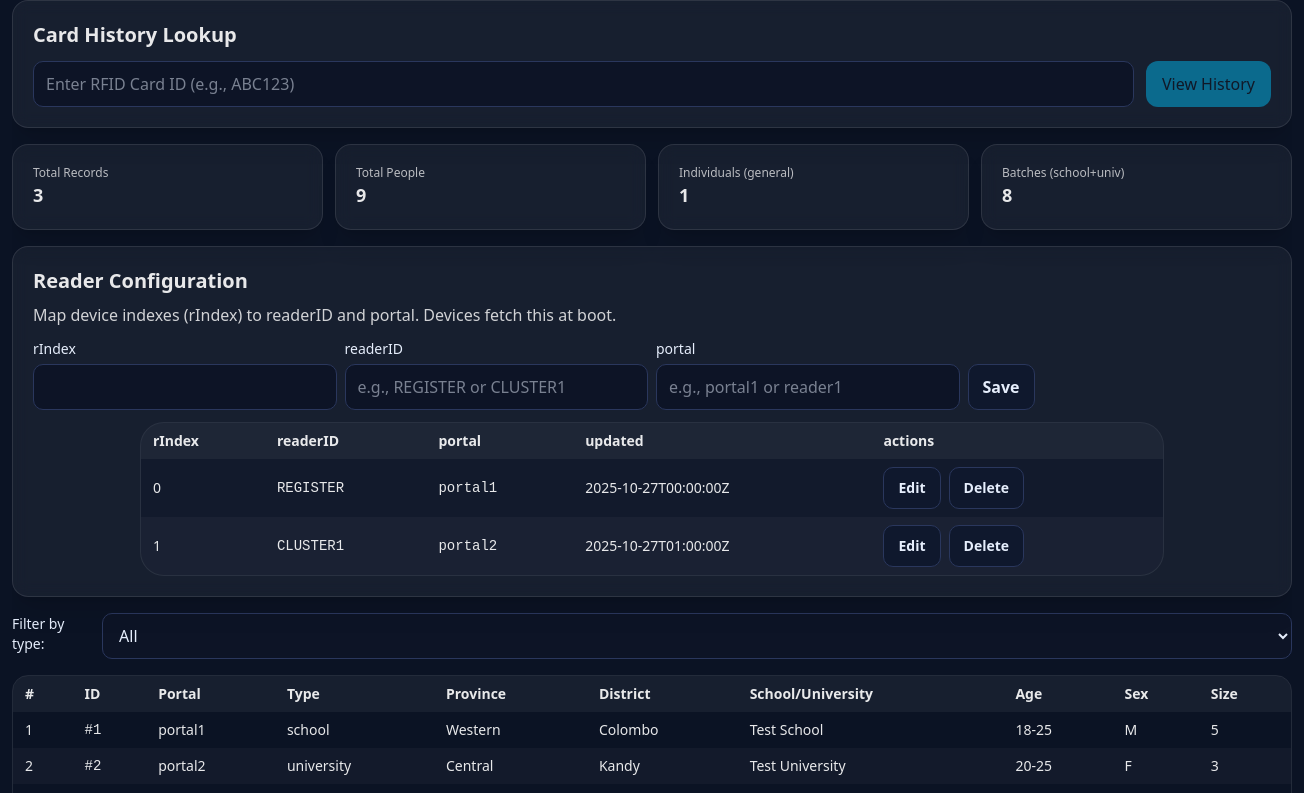
Test: AdminPortal › Reader Configuration Management › should handle edit reader configuration
The image size is (1304, 793).
Expected: the heading "Reader Configuration" is shown, x1=33 y1=267 x2=248 y2=294
Step 1. Click the button "Edit" in the row of "REGISTER" → (912, 488), box x1=884 y1=467 x2=941 y2=509
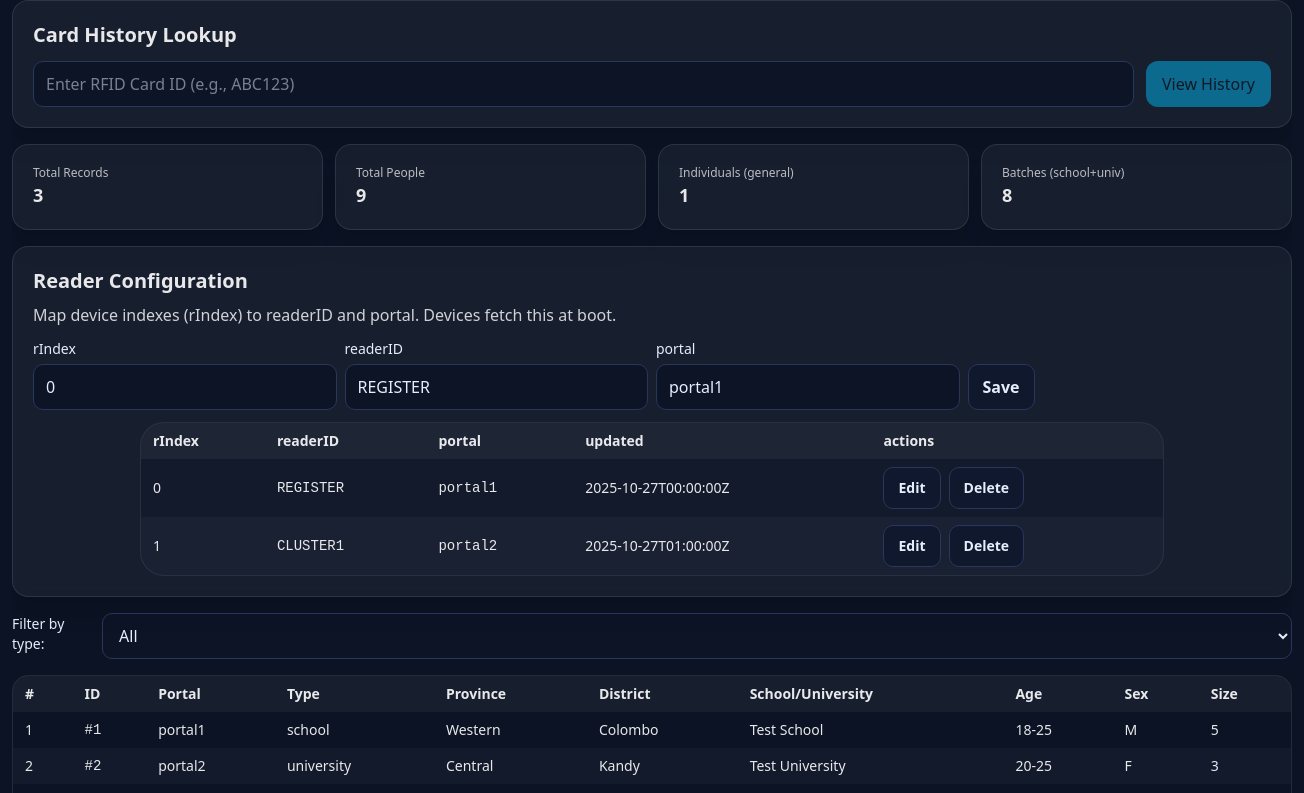
Expected: the number field showing "0" holds "0", x1=33 y1=364 x2=336 y2=410
Expected: the 1st field showing "REGISTER" holds "REGISTER", x1=344 y1=364 x2=648 y2=410
Expected: the 2nd field showing "portal1" holds "portal1", x1=656 y1=364 x2=960 y2=410
